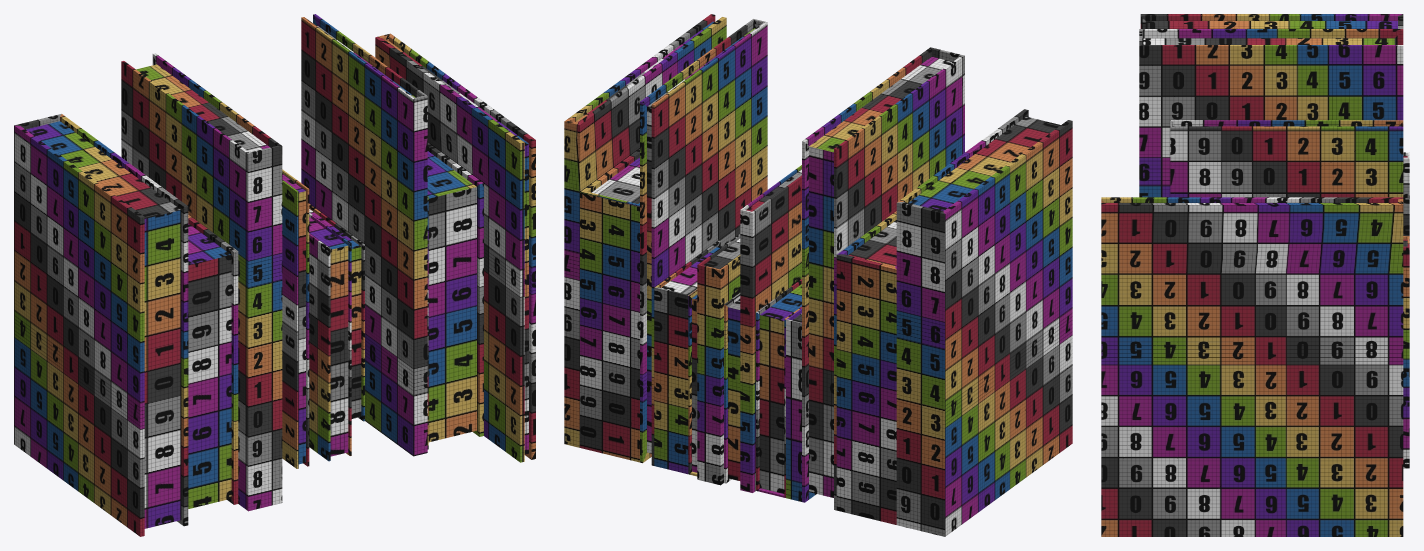
The model's file is Books.fbx.
3 renders of one model, left to right at view 1: azimuth 30°, elevation 25°; view 2: azimuth 150°, elevation 25°; view 3: azimuth 270°, elevation 25°, orthographic. The views are drawn at different scales.
Visible parts, largest first — view 1: Box008; view 2: Box008; view 3: Box008.
Boxes of the visible parts, left/top/right/bottom form: Box008: left=14, top=14, right=535, bottom=536; Box008: left=564, top=14, right=1072, bottom=536; Box008: left=1101, top=14, right=1409, bottom=536.
Bounding box in the file's own units: 59.4 × 53.81 × 40.54.
1 material, 1 textured.
